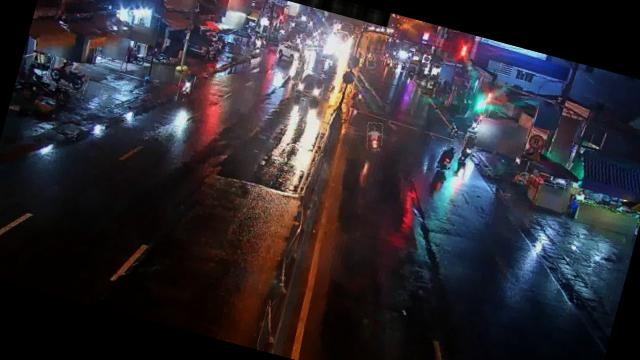Bike: (44, 56, 91, 94), (174, 72, 196, 104), (363, 120, 386, 150), (435, 143, 457, 173), (458, 132, 477, 164)
Car: (294, 69, 326, 101)
